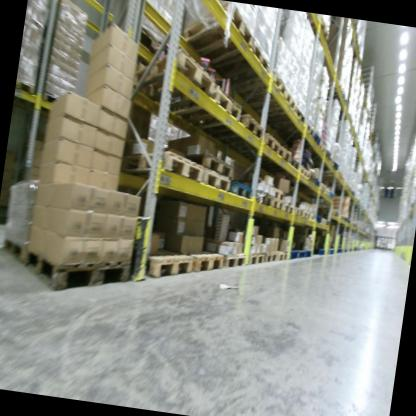pallet: (126, 43, 222, 123), (21, 241, 133, 301), (170, 0, 257, 75), (118, 135, 206, 194), (164, 82, 246, 143), (201, 26, 274, 89), (202, 105, 266, 156), (233, 61, 289, 111), (139, 244, 195, 285), (131, 18, 176, 67), (181, 243, 227, 277), (196, 245, 245, 275), (255, 87, 297, 121), (191, 147, 234, 176), (197, 166, 234, 195), (0, 234, 32, 267), (269, 104, 307, 130), (37, 86, 72, 111), (302, 15, 332, 44), (13, 75, 39, 107), (281, 119, 315, 140), (260, 128, 283, 159), (248, 185, 276, 208), (293, 126, 322, 148), (227, 180, 252, 201), (277, 139, 294, 168), (245, 247, 264, 270), (262, 247, 281, 267), (289, 152, 302, 174), (268, 197, 285, 212), (276, 247, 290, 264), (269, 185, 286, 198), (282, 201, 295, 216), (302, 165, 312, 182), (295, 247, 306, 262), (288, 246, 299, 261), (293, 206, 305, 218), (299, 162, 307, 177), (301, 247, 310, 259), (302, 208, 310, 220)
